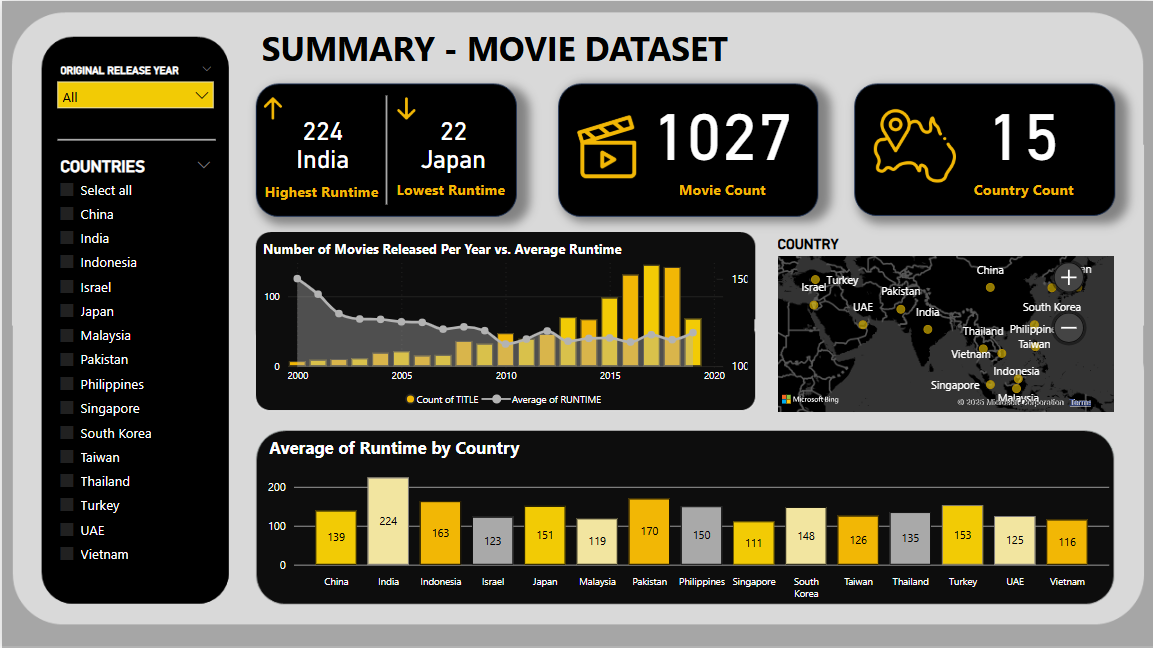

The dashboard page shown, as its layout file describes it:
{"tool":"powerbi","page":{"name":"Yellow","canvas":[1280,720],"ordinal":1},"visuals":[{"type":"slicer","fields":{"Values":["data_movies.COUNTRY"]},"box":[51.7,168.3,193.3,480],"z":0},{"type":"slicer","fields":{"Values":["data_movies.RELEASE"]},"box":[51.7,65,193.3,80],"z":1000},{"type":"shape","box":[60.8,130.8,175.8,45],"z":2000},{"type":"lineClusteredColumnComboChart","title":"Number of Movies Released Per Year vs. Average Runtime","fields":{"Category":["data_movies.RELEASE"],"Y2":["Avg(data_movies.RUNTIME)"],"Y":["Count(data_movies.TITLE)"]},"box":[285,275,553.3,180],"z":3000},{"type":"textbox","box":[285,260,465,36.2],"z":4000},{"type":"clusteredColumnChart","fields":{"Category":["data_movies.COUNTRY"],"Y":["Avg(data_movies.RUNTIME)"]},"box":[285,485,955,188.3],"z":5000},{"type":"textbox","box":[291.7,478.3,330,40],"z":6000},{"type":"card","fields":{"Values":["CountNonNull(data_movies.TITLE)"]},"box":[655,67.3,288.8,146.2],"z":7000},{"type":"card","fields":{"Values":["data_movies.MaxRuntimeCountry"]},"box":[285.5,100,139.1,109.1],"z":8000},{"type":"card","fields":{"Values":["data_movies.MinRuntimeCountry"]},"box":[430.7,99.9,139.1,109.1],"z":9000},{"type":"card","fields":{"Values":["Count(data_movies.COUNTRY)"]},"box":[990,67.3,288.9,146.7],"z":10000},{"type":"map","fields":{"Category":["data_movies.COUNTRY"]},"box":[856.4,255.7,383.6,207.1],"z":11000},{"type":"shape","box":[406.7,105.6,41.1,121.1],"z":12000},{"type":"textbox","box":[271.8,190.9,162.7,35.5],"z":13000},{"type":"textbox","box":[418.2,190,161.8,52.7],"z":14000},{"type":"textbox","box":[283.3,21.7,536.7,61.7],"z":15000},{"type":"textbox","box":[728.8,192.5,143.8,32.5],"z":16000},{"type":"textbox","box":[1062.5,192.5,143.8,32.5],"z":17000},{"type":"image","box":[632,121,80,80],"z":18000},{"type":"image","box":[963,110,101.7,101.7],"z":19000},{"type":"image","box":[284,102,35,35],"z":20000},{"type":"image","box":[432,102,35,35],"z":21000}]}

Visuals, with their boxes in screenshot pixels (x1, y1, x2, y2), scaled from the page's 1280x720 canvas onto the 1153x648 screenshot:
slicer - data_movies.COUNTRY: pyautogui.locateOnScreen(47, 151, 221, 583)
slicer - data_movies.RELEASE: pyautogui.locateOnScreen(47, 58, 221, 130)
shape: pyautogui.locateOnScreen(55, 118, 213, 158)
"Number of Movies Released Per Year vs. Average Runtime" lineClusteredColumnComboChart: pyautogui.locateOnScreen(257, 248, 755, 410)
textbox: pyautogui.locateOnScreen(257, 234, 676, 267)
clusteredColumnChart - data_movies.COUNTRY x Avg(data_movies.RUNTIME): pyautogui.locateOnScreen(257, 436, 1117, 606)
textbox: pyautogui.locateOnScreen(263, 430, 560, 466)
card - CountNonNull(data_movies.TITLE): pyautogui.locateOnScreen(590, 61, 850, 192)
card - data_movies.MaxRuntimeCountry: pyautogui.locateOnScreen(257, 90, 382, 188)
card - data_movies.MinRuntimeCountry: pyautogui.locateOnScreen(388, 90, 513, 188)
card - Count(data_movies.COUNTRY): pyautogui.locateOnScreen(892, 61, 1152, 193)
map - data_movies.COUNTRY: pyautogui.locateOnScreen(771, 230, 1117, 417)
shape: pyautogui.locateOnScreen(366, 95, 403, 204)
textbox: pyautogui.locateOnScreen(245, 172, 391, 204)
textbox: pyautogui.locateOnScreen(377, 171, 522, 218)
textbox: pyautogui.locateOnScreen(255, 20, 739, 75)
textbox: pyautogui.locateOnScreen(656, 173, 786, 202)
textbox: pyautogui.locateOnScreen(957, 173, 1087, 202)
image: pyautogui.locateOnScreen(569, 109, 641, 181)
image: pyautogui.locateOnScreen(867, 99, 959, 191)
image: pyautogui.locateOnScreen(256, 92, 287, 123)
image: pyautogui.locateOnScreen(389, 92, 421, 123)
